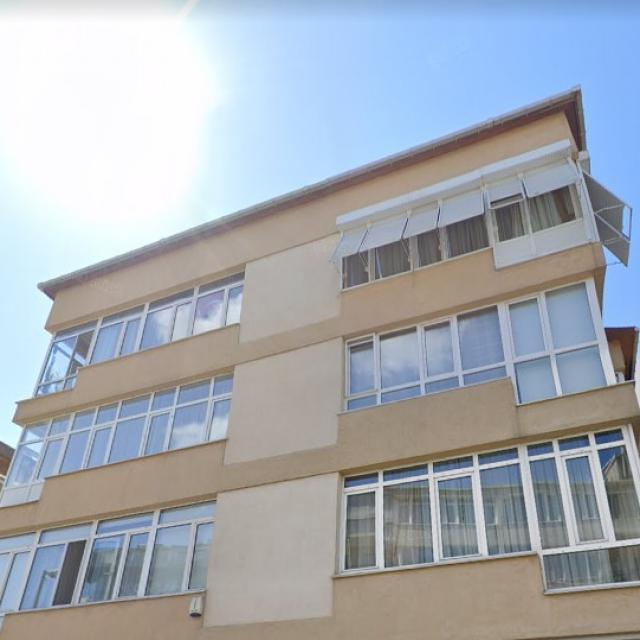Building: (0, 85, 640, 640)
